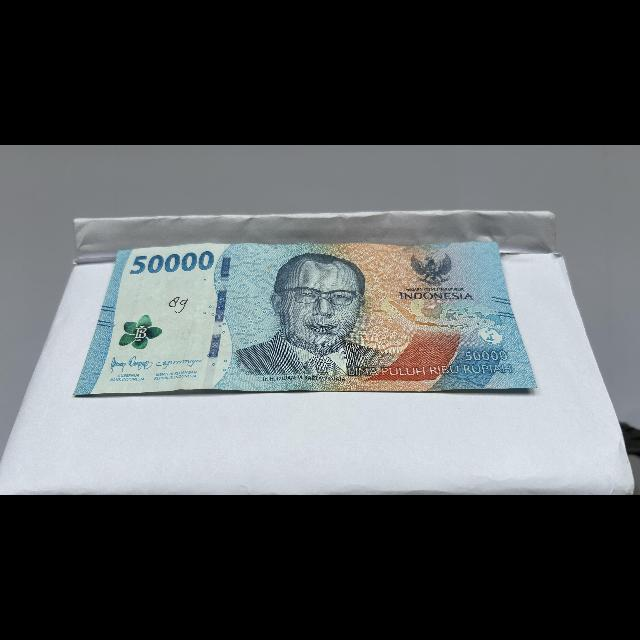Asli-50k: (68, 238, 541, 398)
Tinta-Asli-50k: (116, 309, 169, 356)
